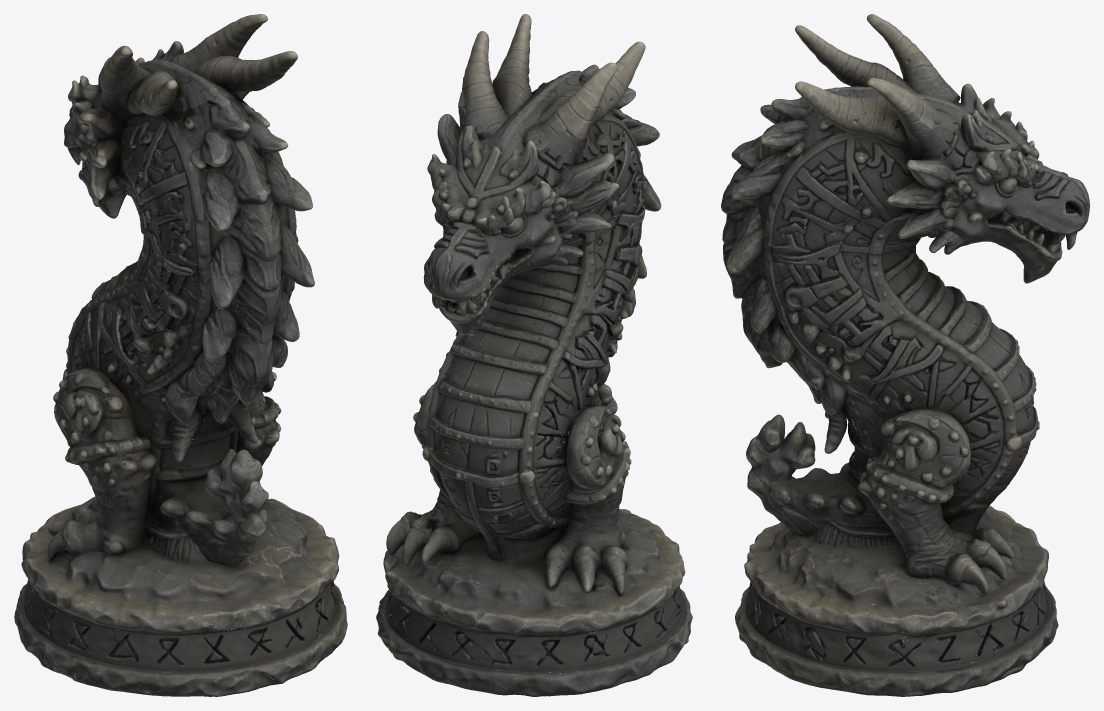
Rendered from knight.glb.
3 renders of one model, left to right at view 1: azimuth 30°, elevation 25°; view 2: azimuth 150°, elevation 25°; view 3: azimuth 270°, elevation 25°, orthographic. The views are drawn at different scales.
Parts seen in each view (by area): view 1: Object_8, Object_9, Object_7, Object_6, Object_10, Object_5, Object_4, Object_3, Object_2; view 2: Object_2, Object_3, Object_4, Object_5, Object_6, Object_9, Object_10, Object_7, Object_8; view 3: Object_6, Object_5, Object_7, Object_8, Object_3, Object_4, Object_10, Object_9, Object_2.
Boxes of the visible parts, <box> form: Object_8: <box>57,95,343,696</box>; Object_9: <box>37,57,344,696</box>; Object_7: <box>99,51,347,696</box>; Object_6: <box>24,14,339,696</box>; Object_10: <box>21,14,341,672</box>; Object_5: <box>15,14,341,672</box>; Object_4: <box>14,29,290,672</box>; Object_3: <box>16,50,269,615</box>; Object_2: <box>14,80,244,632</box>; Object_2: <box>381,182,615,696</box>; Object_3: <box>376,141,613,695</box>; Object_4: <box>376,72,661,696</box>; Object_5: <box>378,31,672,691</box>; Object_6: <box>399,31,690,676</box>; Object_9: <box>429,40,692,656</box>; Object_10: <box>380,32,688,685</box>; Object_7: <box>456,14,686,646</box>; Object_8: <box>463,67,690,611</box>; Object_6: <box>747,18,974,684</box>; Object_5: <box>839,14,1015,696</box>; Object_7: <box>731,25,884,688</box>; Object_8: <box>721,100,879,676</box>; Object_3: <box>914,98,1060,687</box>; Object_4: <box>871,19,1033,685</box>; Object_10: <box>838,14,975,696</box>; Object_9: <box>722,38,931,695</box>; Object_2: <box>904,123,1089,681</box>.
Bounding box in the file's own units: 0.4937 × 1 × 0.5696.
Materials: 1 (1 with a texture image).
